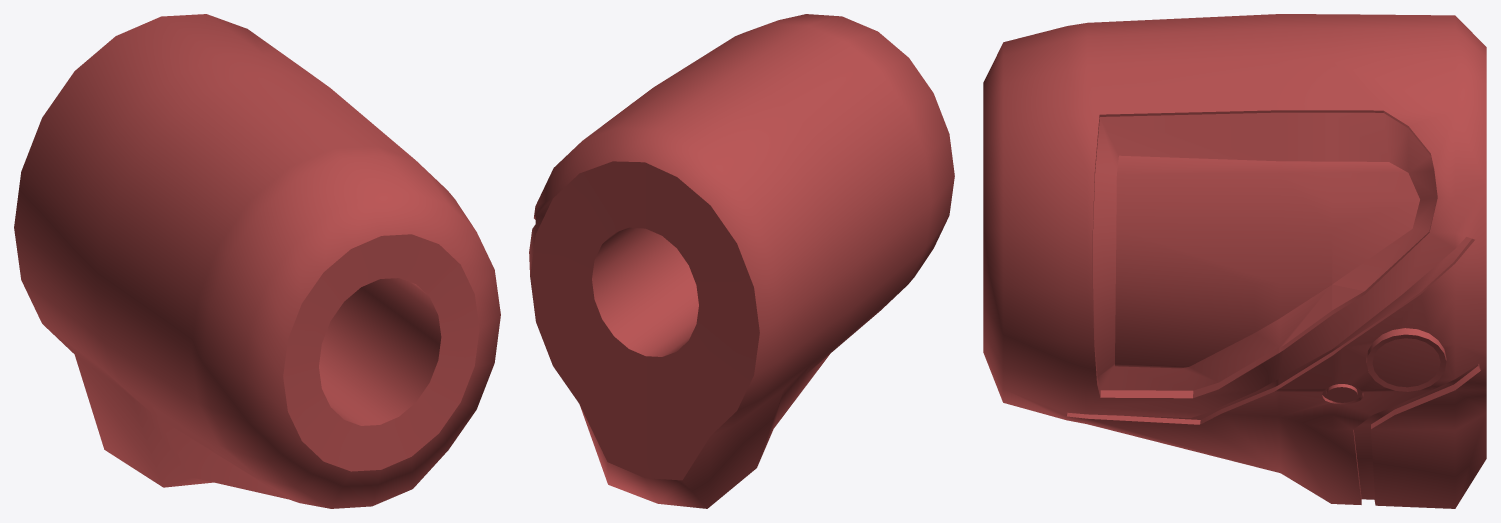
The model's file is P06D_HawnP.fbx.
3 views of the same model, side by side, from view 1: azimuth 30°, elevation 25°; view 2: azimuth 150°, elevation 25°; view 3: azimuth 270°, elevation 25° (orthographic). The views are drawn at different scales.
Visible parts, largest first — view 1: SM_Watch; view 2: SM_Watch; view 3: SM_Watch.
Boxes of the visible parts, box(x1,y1,x2,y2) form: SM_Watch: box(14, 14, 500, 508); SM_Watch: box(529, 14, 954, 508); SM_Watch: box(983, 14, 1486, 508).
Bounding box in the file's own units: 2.21 × 3.06 × 3.04.
